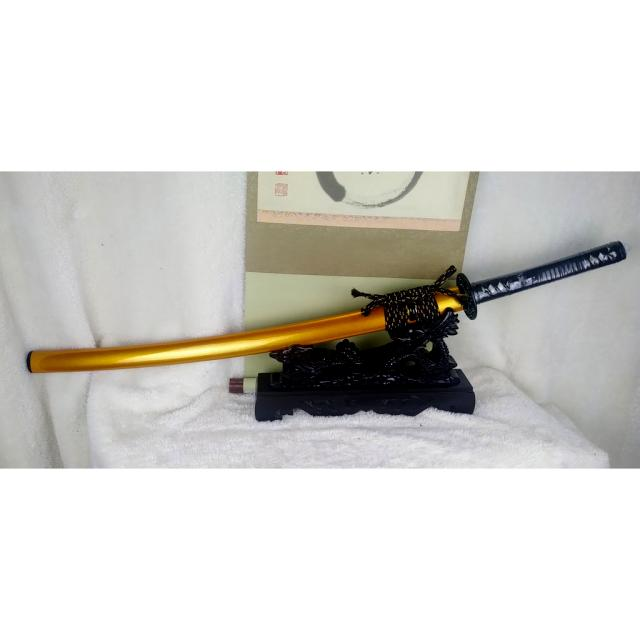long sword: (27, 237, 621, 398)
